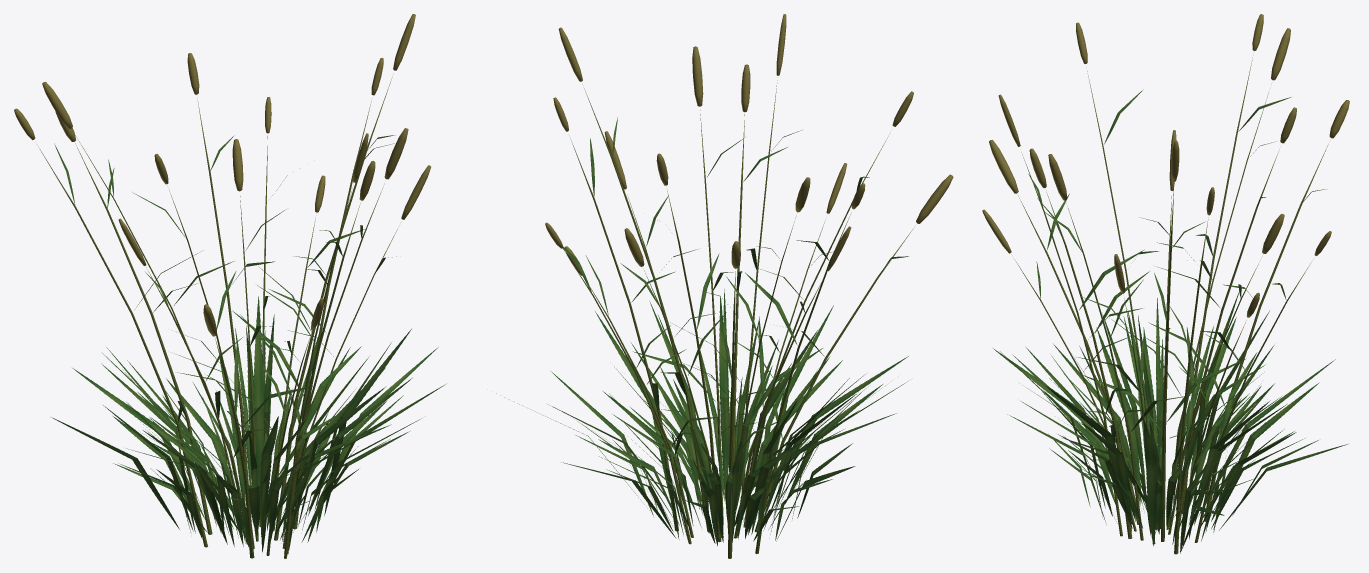
The model's file is meadow-foxtail.glb.
3 renders of one model, left to right at view 1: azimuth 30°, elevation 25°; view 2: azimuth 150°, elevation 25°; view 3: azimuth 270°, elevation 25°, orthographic. The views are drawn at different scales.
Parts seen in each view (by area): view 1: Meadow Foxtail; view 2: Meadow Foxtail; view 3: Meadow Foxtail.
Boxes of the visible parts, x1,y1,x2,y2 form: Meadow Foxtail: (14, 14, 445, 558); Meadow Foxtail: (496, 14, 953, 558); Meadow Foxtail: (982, 14, 1349, 554).
Bounding box in the file's own units: 0.7245 × 0.8156 × 0.5879.
Materials: 3 (3 with a texture image).
